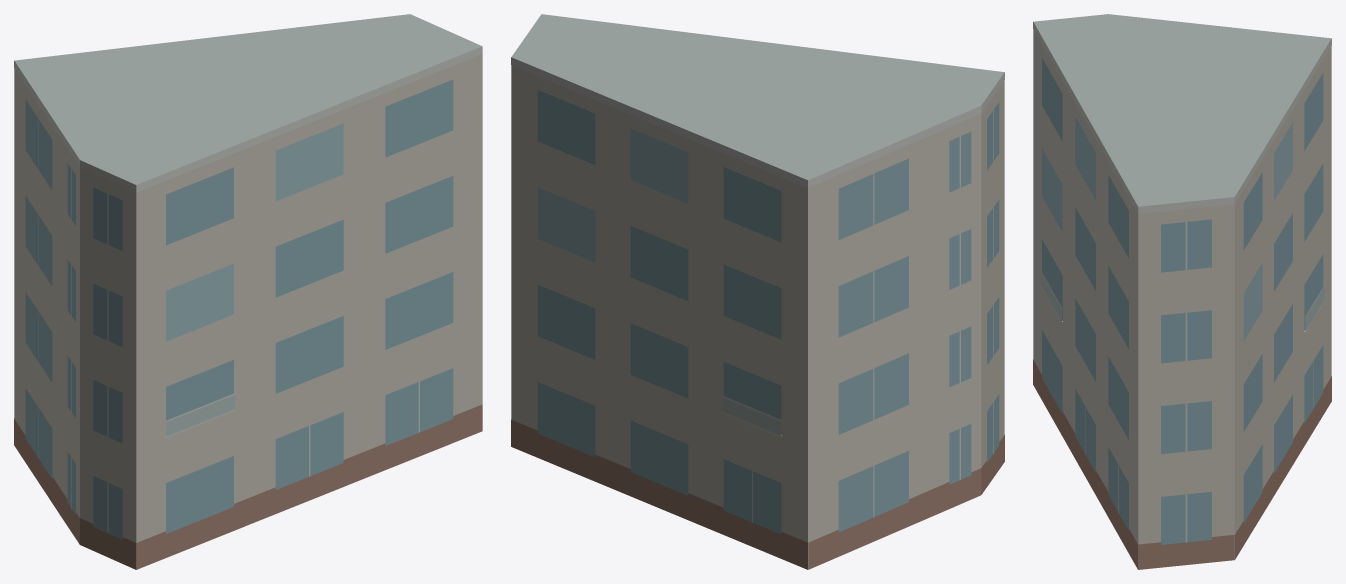
File: residential-8a9b5cc2-0ad7-41bb-997a-44f83f46d30f.glb
3 views of the same model, side by side, from view 1: azimuth 30°, elevation 25°; view 2: azimuth 150°, elevation 25°; view 3: azimuth 270°, elevation 25° (orthographic). The views are drawn at different scales.
Parts seen in each view (by area): view 1: residential-8a9b5cc2-0ad7-41bb-997a-44f83f46d30f.tmp; view 2: residential-8a9b5cc2-0ad7-41bb-997a-44f83f46d30f.tmp; view 3: residential-8a9b5cc2-0ad7-41bb-997a-44f83f46d30f.tmp.
Part boxes in pixels (box(x1,y1,x2,y2)): residential-8a9b5cc2-0ad7-41bb-997a-44f83f46d30f.tmp: box(14, 14, 482, 569); residential-8a9b5cc2-0ad7-41bb-997a-44f83f46d30f.tmp: box(511, 14, 1004, 569); residential-8a9b5cc2-0ad7-41bb-997a-44f83f46d30f.tmp: box(1033, 14, 1331, 569).
Bounding box in the file's own units: 13.9 × 12.2 × 9.1.
